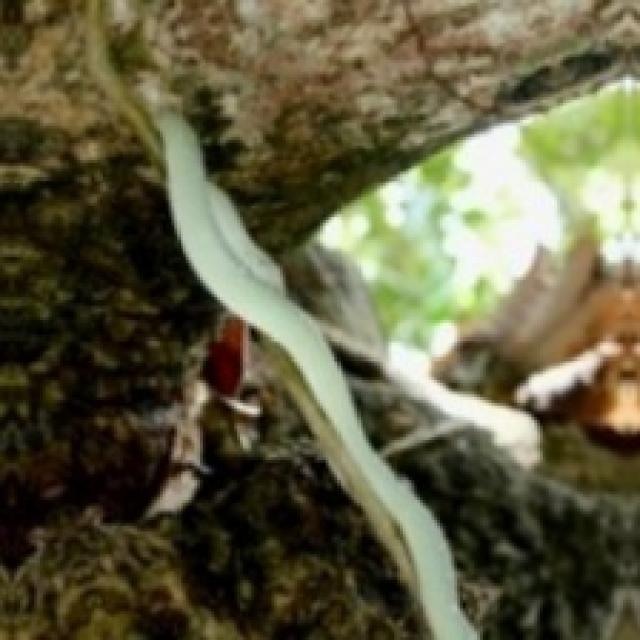north ph temple pitviper: (86, 0, 477, 637)
